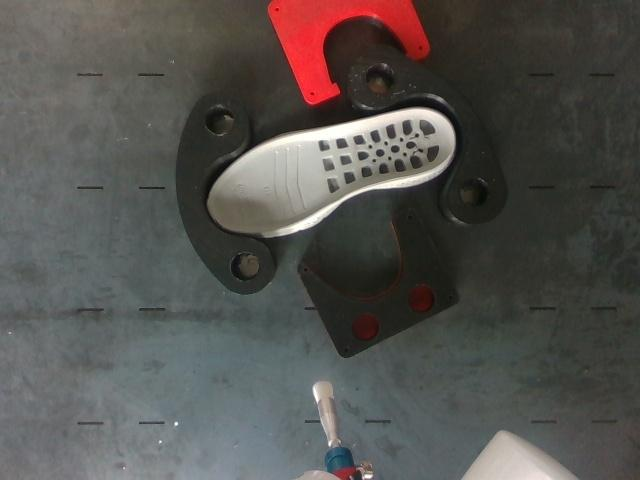shoes: (208, 110, 454, 233)
